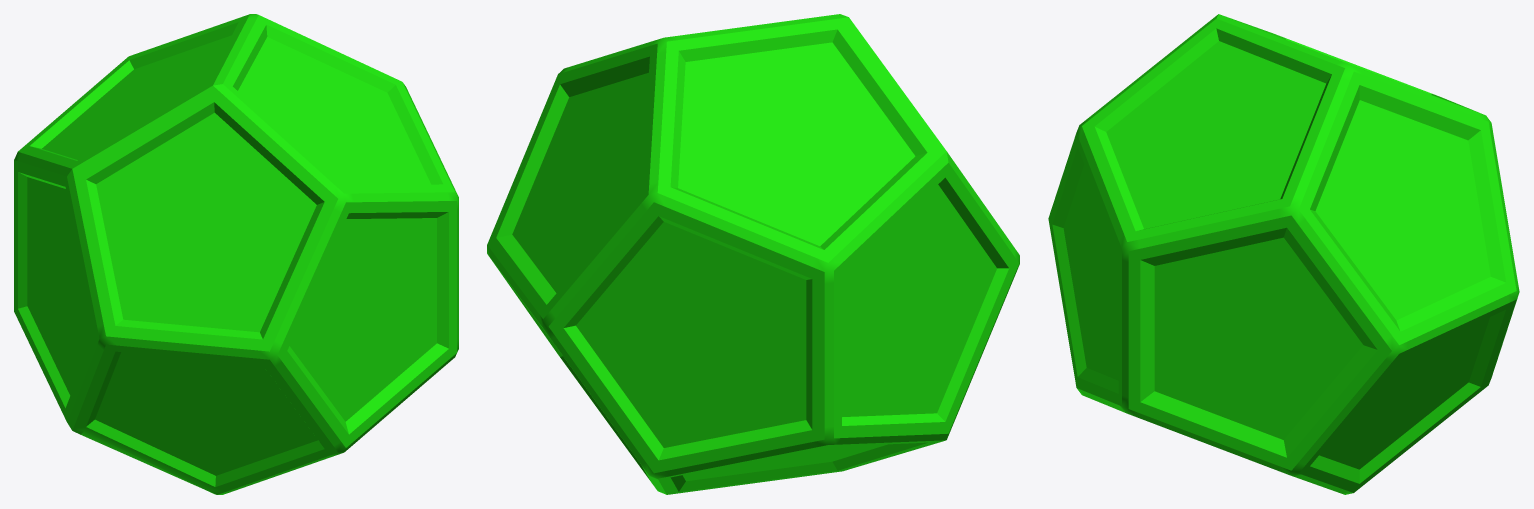
The picture shows the model from 3 angles, left to right: view 1: azimuth 30°, elevation 25°; view 2: azimuth 150°, elevation 25°; view 3: azimuth 270°, elevation 25°; orthographic projection. The views are drawn at different scales.
Visible parts, largest first — view 1: Barril.007; view 2: Barril.007; view 3: Barril.007.
Boxes of the visible parts, bbox=[...] form: Barril.007: bbox=[14, 14, 458, 494]; Barril.007: bbox=[487, 14, 1019, 494]; Barril.007: bbox=[1048, 14, 1519, 494].
Size of the model in its own units: 0.2744 by 0.2851 by 0.2853.
